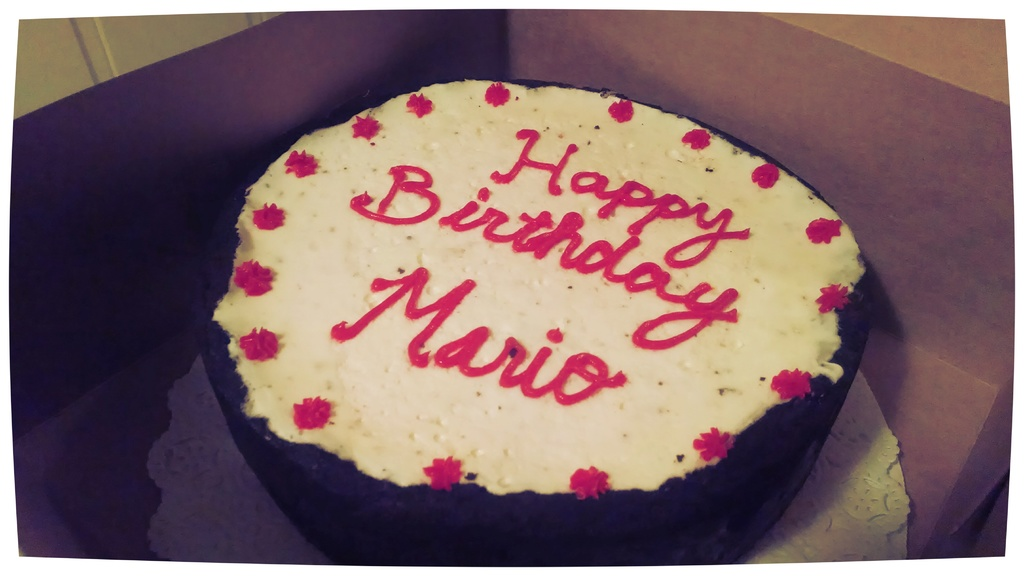cake: (209, 74, 875, 575)
